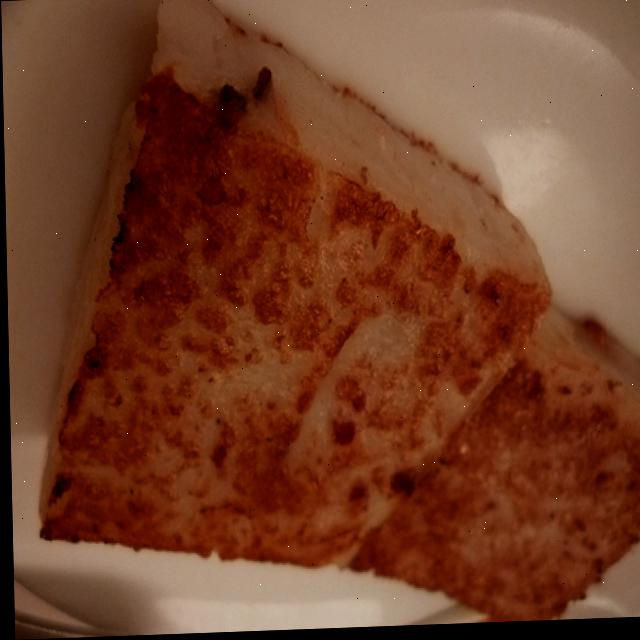蛋糕甜品: (27, 0, 640, 639)
